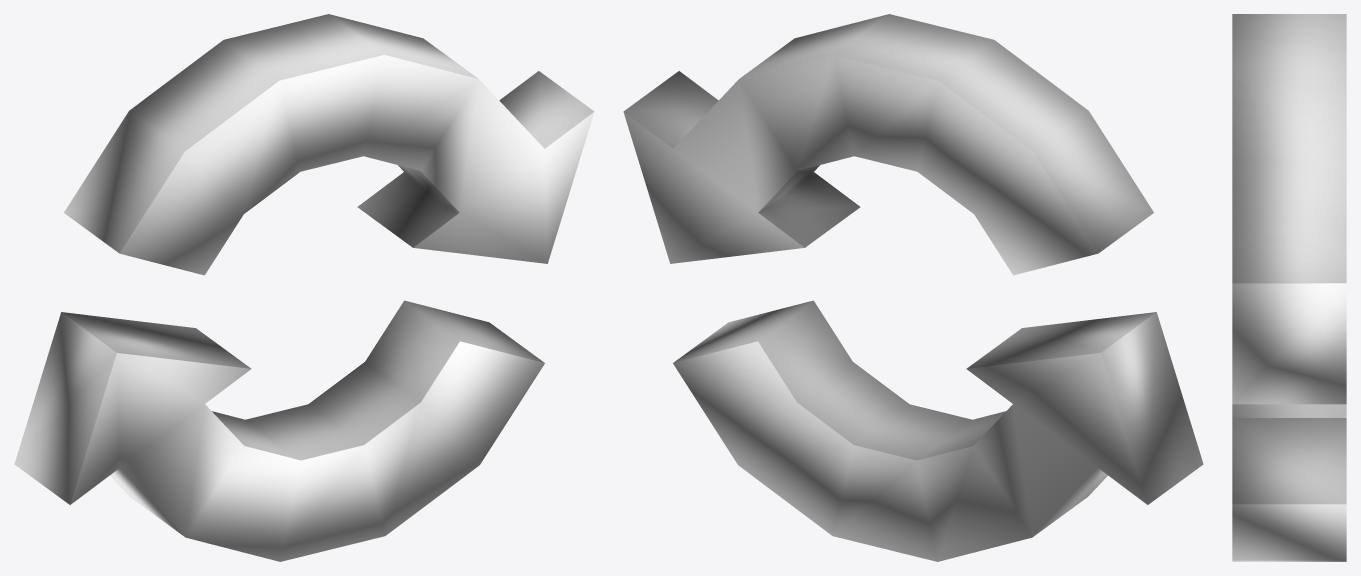
Rendered from Arrow23.fbx.
The picture shows the model from 3 angles, left to right: view 1: azimuth 30°, elevation 25°; view 2: azimuth 150°, elevation 25°; view 3: azimuth 270°, elevation 25°; orthographic projection. The views are drawn at different scales.
Visible parts, largest first — view 1: Arrow23; view 2: Arrow23; view 3: Arrow23.
Part boxes in pixels (x1=…): Arrow23: x1=14, y1=14, x2=594, y2=561; Arrow23: x1=623, y1=14, x2=1203, y2=561; Arrow23: x1=1232, y1=14, x2=1346, y2=561.
Size of the model in its own units: 4.66 by 4.09 by 0.8586.
